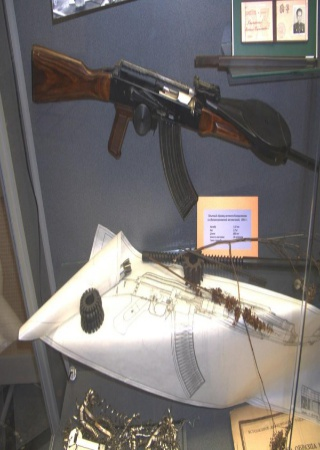rifle: (26, 38, 320, 219)
